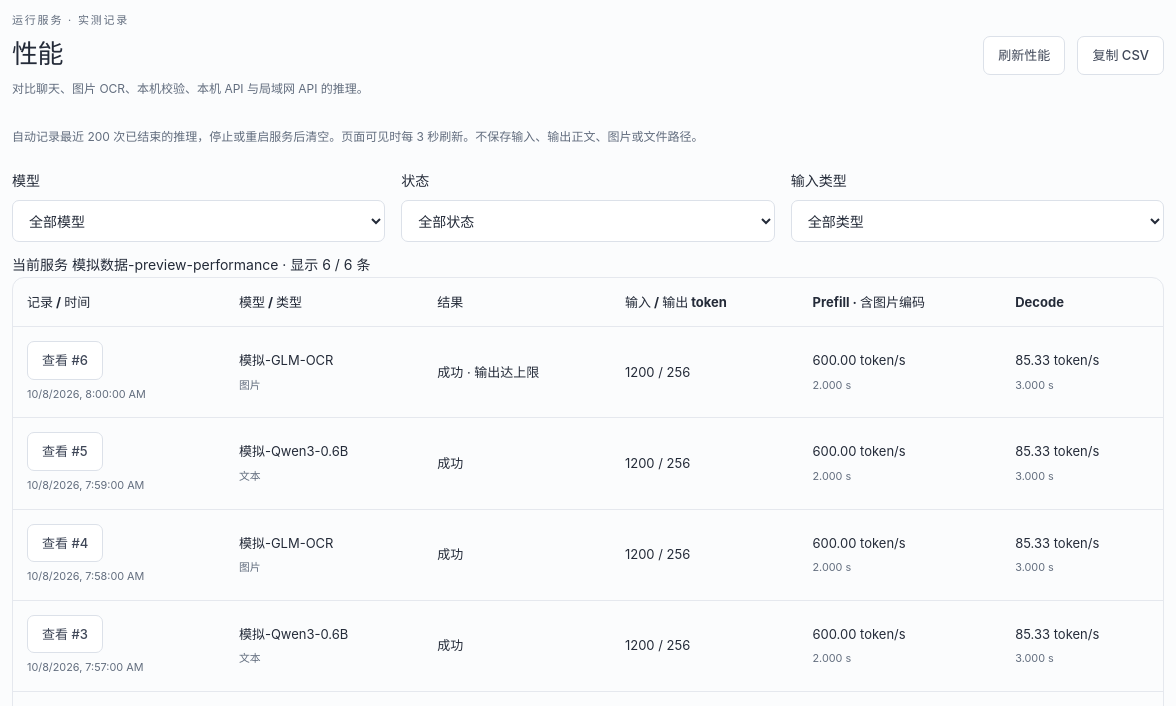
Test: performance page › keeps a missing selected model explicit after retention evicts its records
Check: the button "查看 #6" is shown, box [27,341,103,380]
Step 1. Select "模拟-GLM-OCR" in the dropdown named "性能模型" → x=199, y=221, box [12,200,385,242]
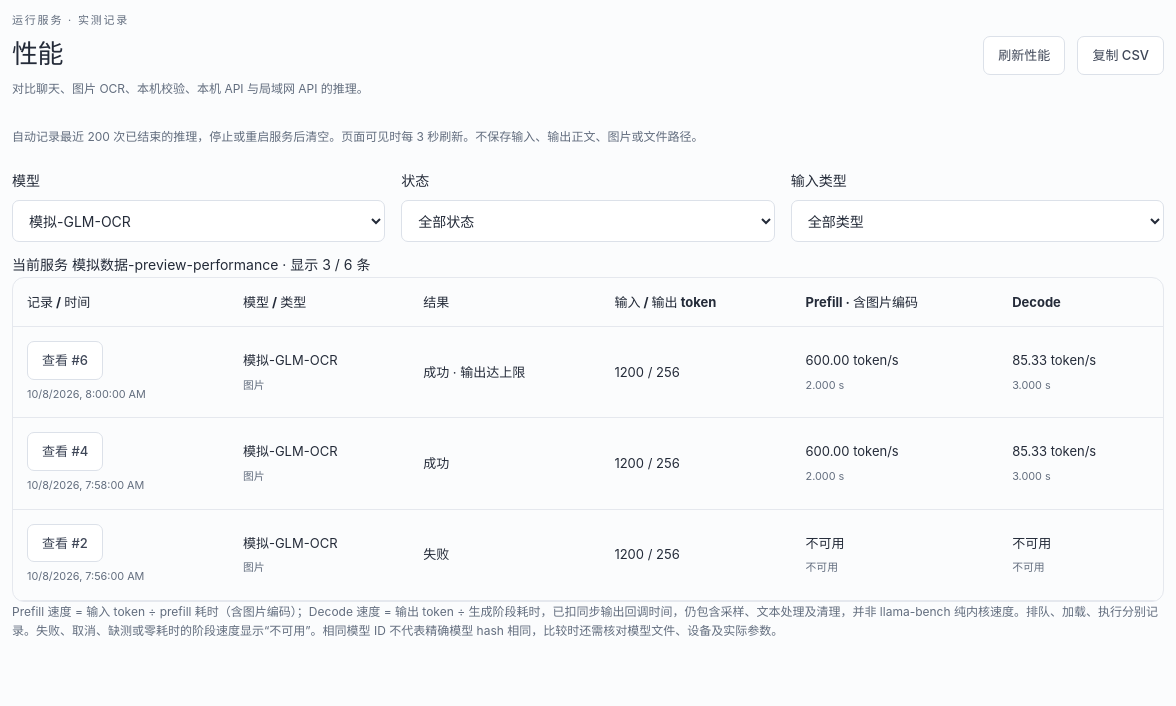
Step 2. Click the button "刷新性能" → x=1024, y=55, box [983,36,1065,75]
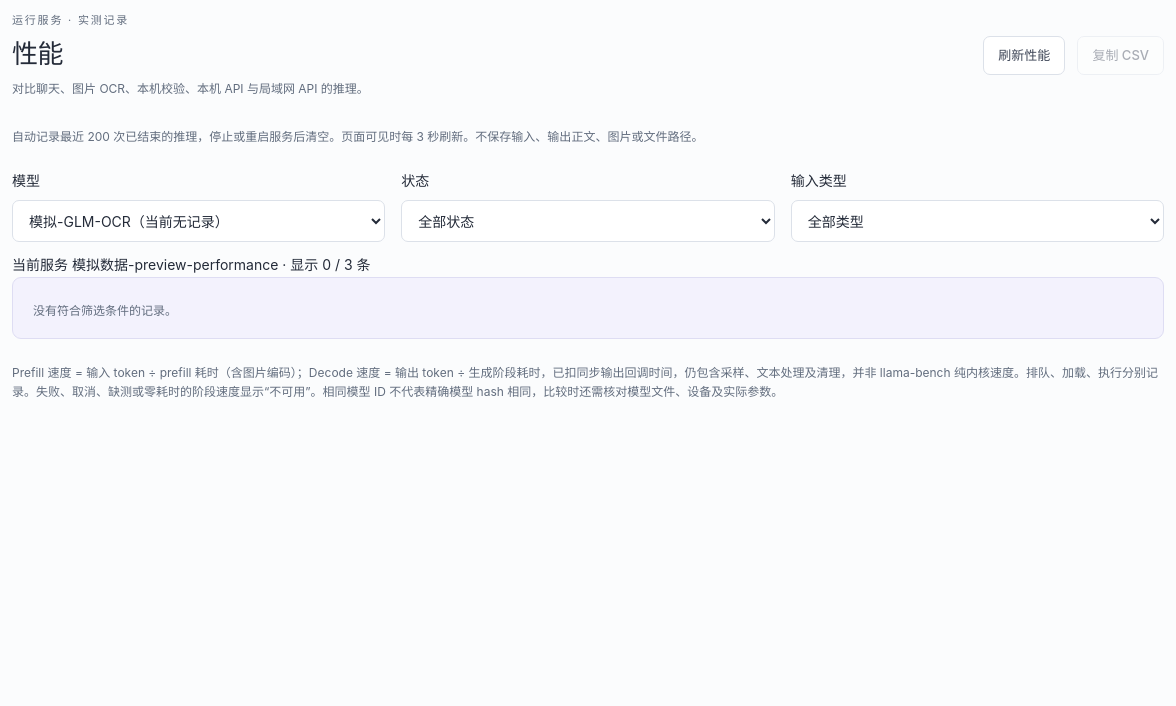
Check: the text "没有符合筛选条件的记录。" is shown, box [33,300,177,320]
Step 3. Select "全部模型" in the dropdown named "性能模型" → x=199, y=221, box [12,200,385,242]
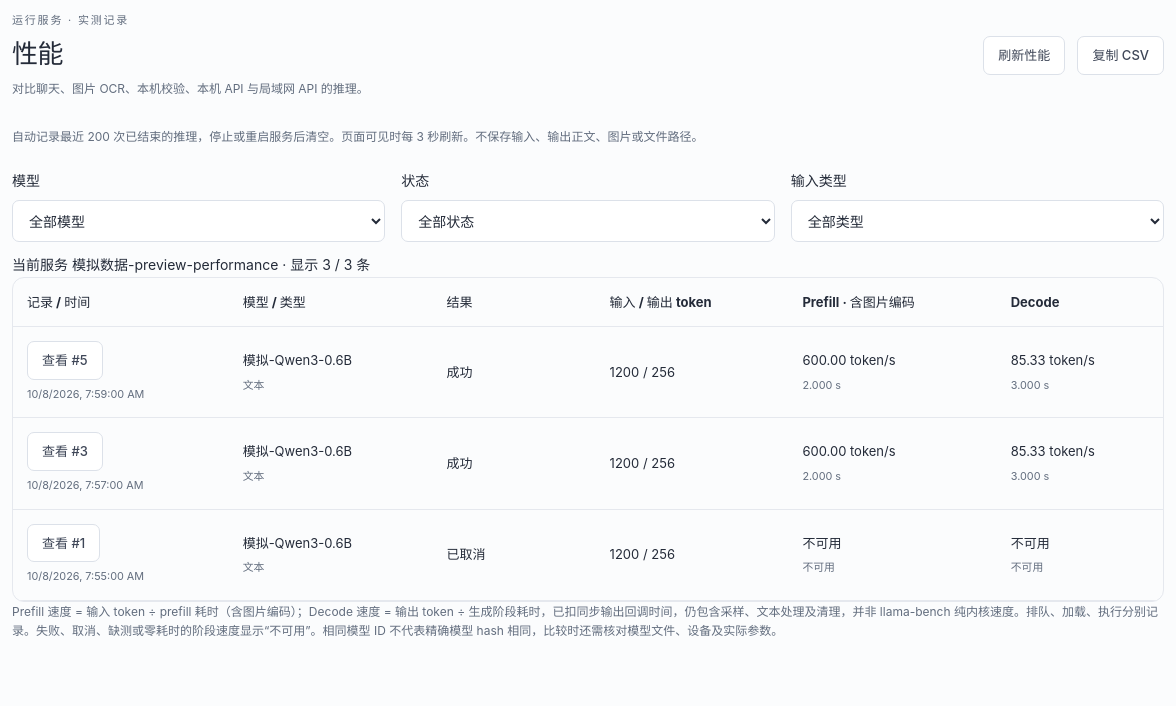
Check: the number of buttons "查看 #5" is 3, box [27,341,103,380]; [27,432,103,471]; [27,524,100,562]
